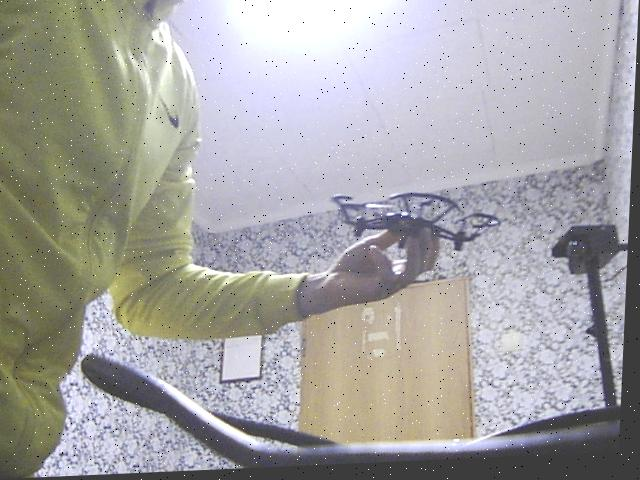drone: (324, 183, 518, 251)
